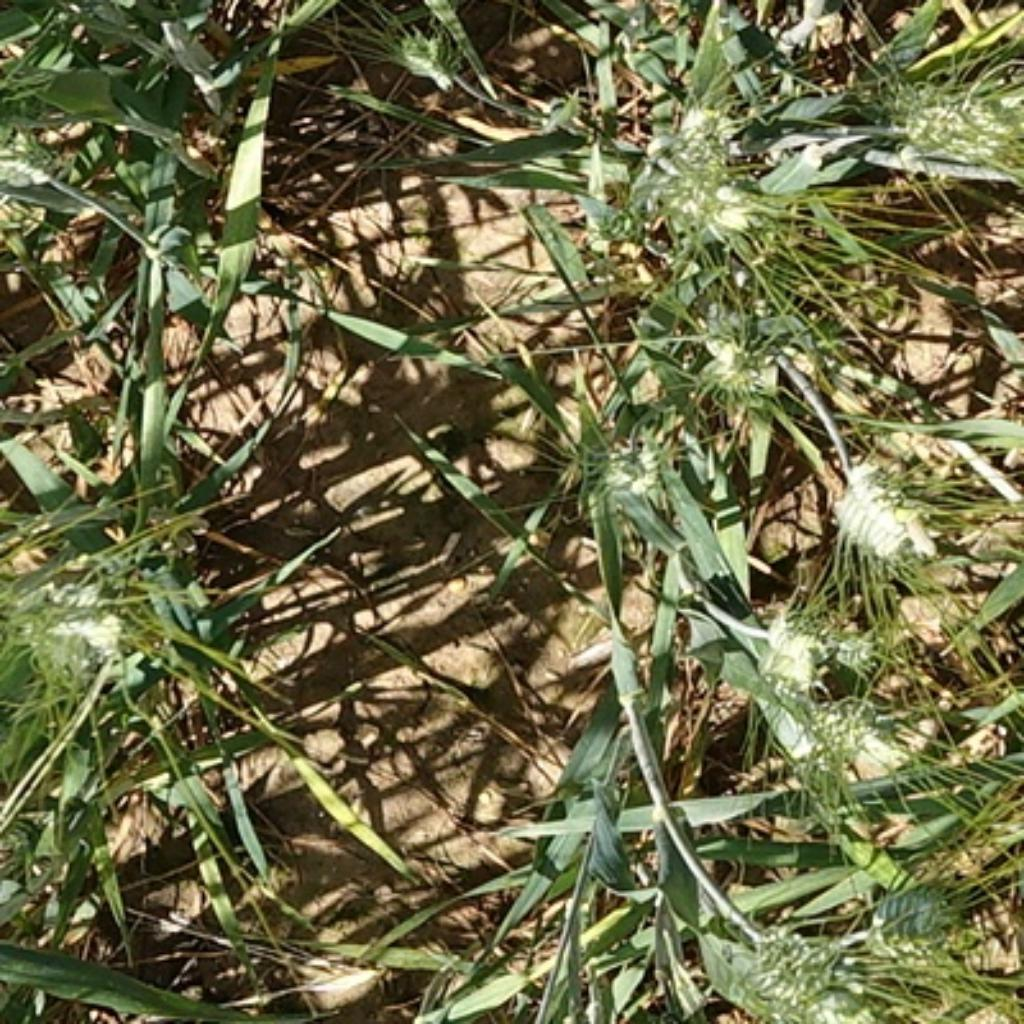0-0: (622, 96, 765, 257), (716, 911, 890, 1024), (821, 435, 947, 573), (865, 58, 1024, 166), (678, 279, 814, 404), (3, 548, 137, 670), (563, 401, 678, 524), (860, 862, 972, 980), (750, 593, 885, 688), (793, 688, 893, 783), (0, 104, 67, 217), (381, 15, 471, 94)
